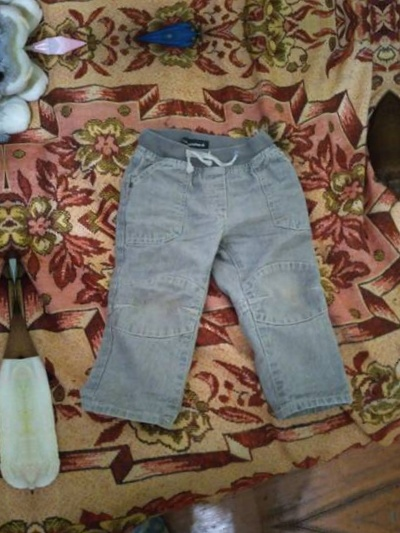Pants: (69, 98, 358, 428)
